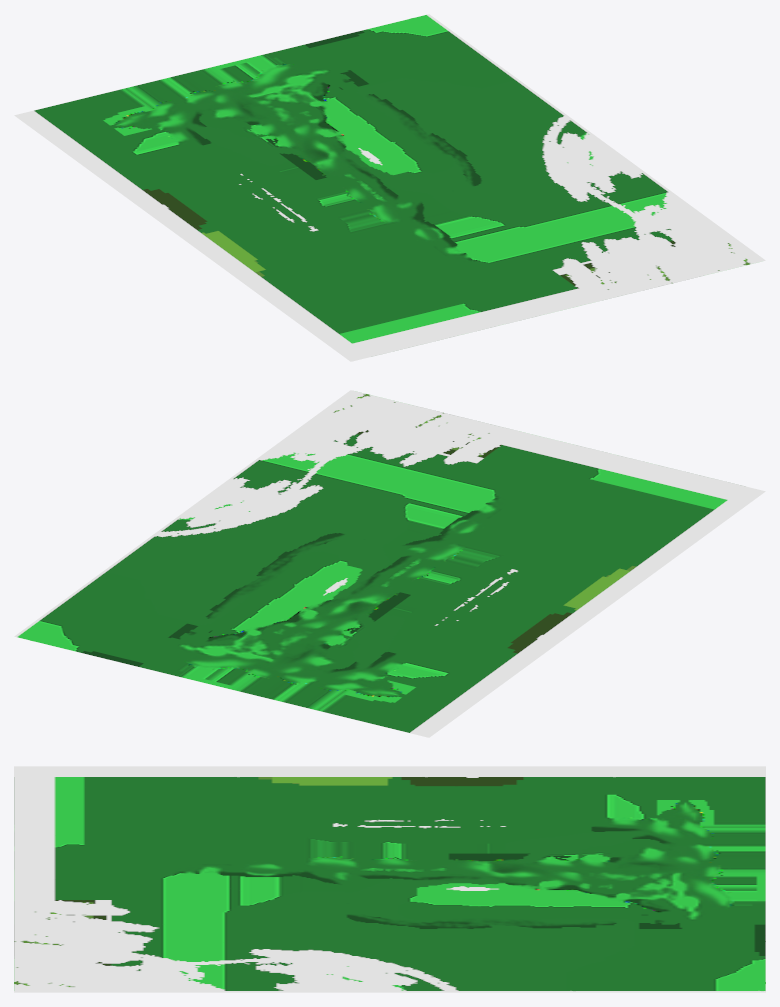
File: vines.FBX
The picture shows the model from 3 angles, top to bottom: view 1: azimuth 30°, elevation 25°; view 2: azimuth 150°, elevation 25°; view 3: azimuth 270°, elevation 25°; orthographic projection. The views are drawn at different scales.
Visible parts, largest first — view 1: Plane001; view 2: Plane001; view 3: Plane001.
Boxes of the visible parts, left/top/right/bottom form: Plane001: left=14, top=14, right=765, bottom=361; Plane001: left=14, top=390, right=765, bottom=737; Plane001: left=14, top=766, right=765, bottom=992.
Bounding box in the file's own units: 78.54 × 6.76e-15 × 110.
1 material, 1 textured.
